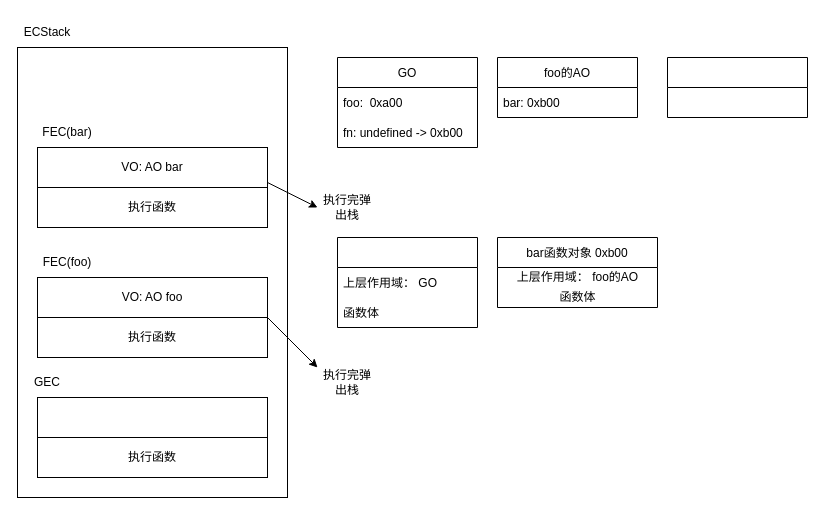
Image size: 825x515. Some labels were removed from this diagram. The box of each missing label's shape, as (x1, y1, x2, y2) in pixels:
bar的AO: (666, 56, 808, 118)
foo函数对象 0xa00: (336, 236, 478, 328)
VO: GO: (36, 396, 268, 438)
